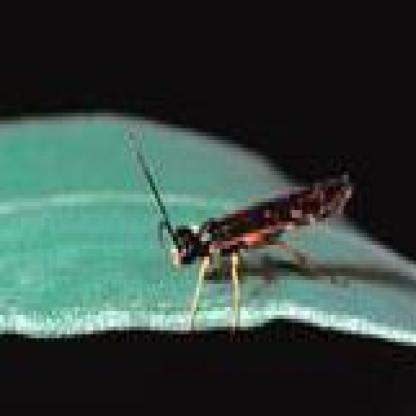sawfly: (128, 129, 362, 332)
